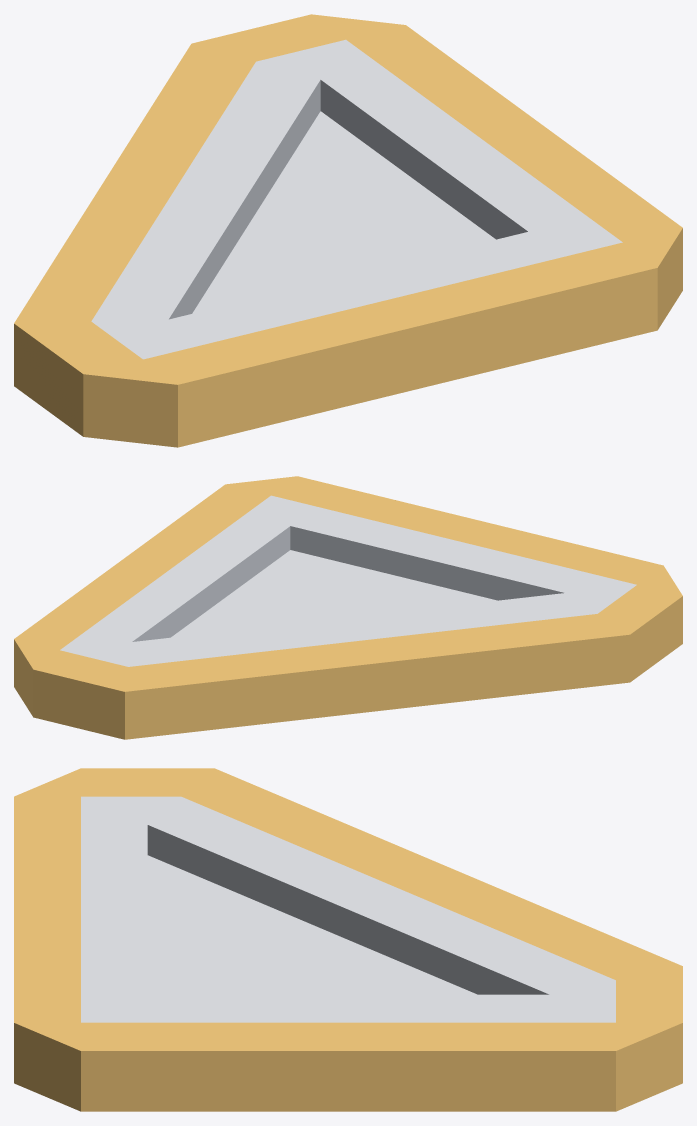
File: platform_smallDiagonal.glb
3 renders of one model, top to bottom at view 1: azimuth 30°, elevation 25°; view 2: azimuth 150°, elevation 25°; view 3: azimuth 270°, elevation 25°, orthographic. The views are drawn at different scales.
Visible parts, largest first — view 1: platform_smallDiagonal; view 2: platform_smallDiagonal; view 3: platform_smallDiagonal.
Boxes of the visible parts, x1=… form: platform_smallDiagonal: x1=14, y1=14, x2=682, y2=447; platform_smallDiagonal: x1=14, y1=476, x2=682, y2=739; platform_smallDiagonal: x1=14, y1=768, x2=682, y2=1111.
Size of the model in its own units: 1.3 by 0.13 by 1.3.
